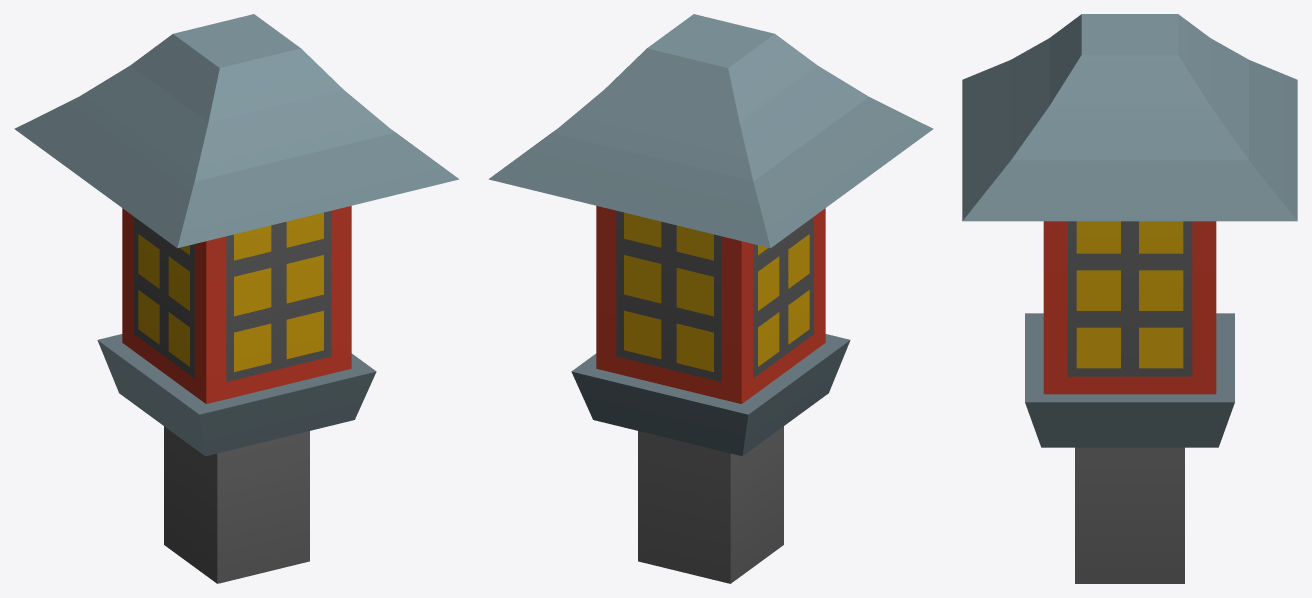
Rendered from japanese lantern.fbx.
3 renders of one model, left to right at view 1: azimuth 30°, elevation 25°; view 2: azimuth 150°, elevation 25°; view 3: azimuth 270°, elevation 25°, orthographic. The views are drawn at different scales.
Visible parts, largest first — view 1: japanese lantern; view 2: japanese lantern; view 3: japanese lantern.
Part boxes in pixels (x1,y1,x2,y2): japanese lantern: [14, 14, 459, 583]; japanese lantern: [488, 14, 933, 583]; japanese lantern: [962, 14, 1297, 583].
Size of the model in its own units: 96.49 by 167 by 96.49.
